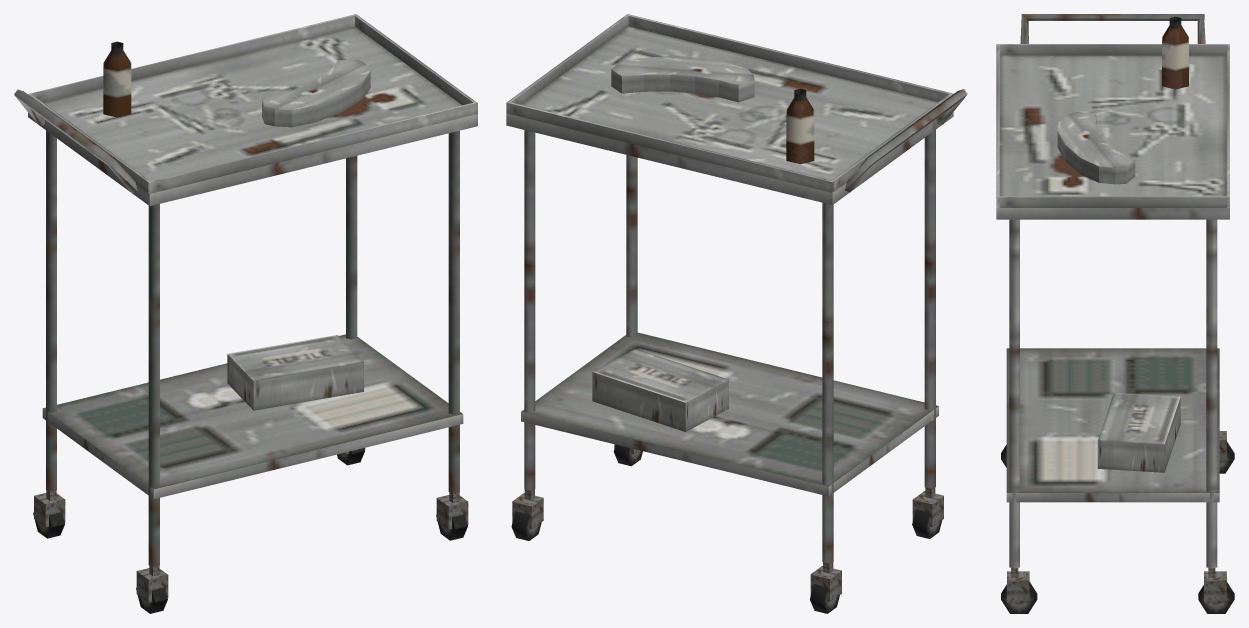
The model's file is instrument_trolley.obj.
3 views of the same model, side by side, from view 1: azimuth 30°, elevation 25°; view 2: azimuth 150°, elevation 25°; view 3: azimuth 270°, elevation 25° (orthographic). The views are drawn at different scales.
Visible parts, largest first — view 1: instrument_trolley; view 2: instrument_trolley; view 3: instrument_trolley.
Part boxes in pixels (box(x1,y1,x2,y2)): instrument_trolley: box(14, 14, 477, 613); instrument_trolley: box(506, 14, 967, 613); instrument_trolley: box(996, 14, 1234, 613).
Bounding box in the file's own units: 0.7586 × 1.01 × 0.4587.
1 material, 1 textured.
